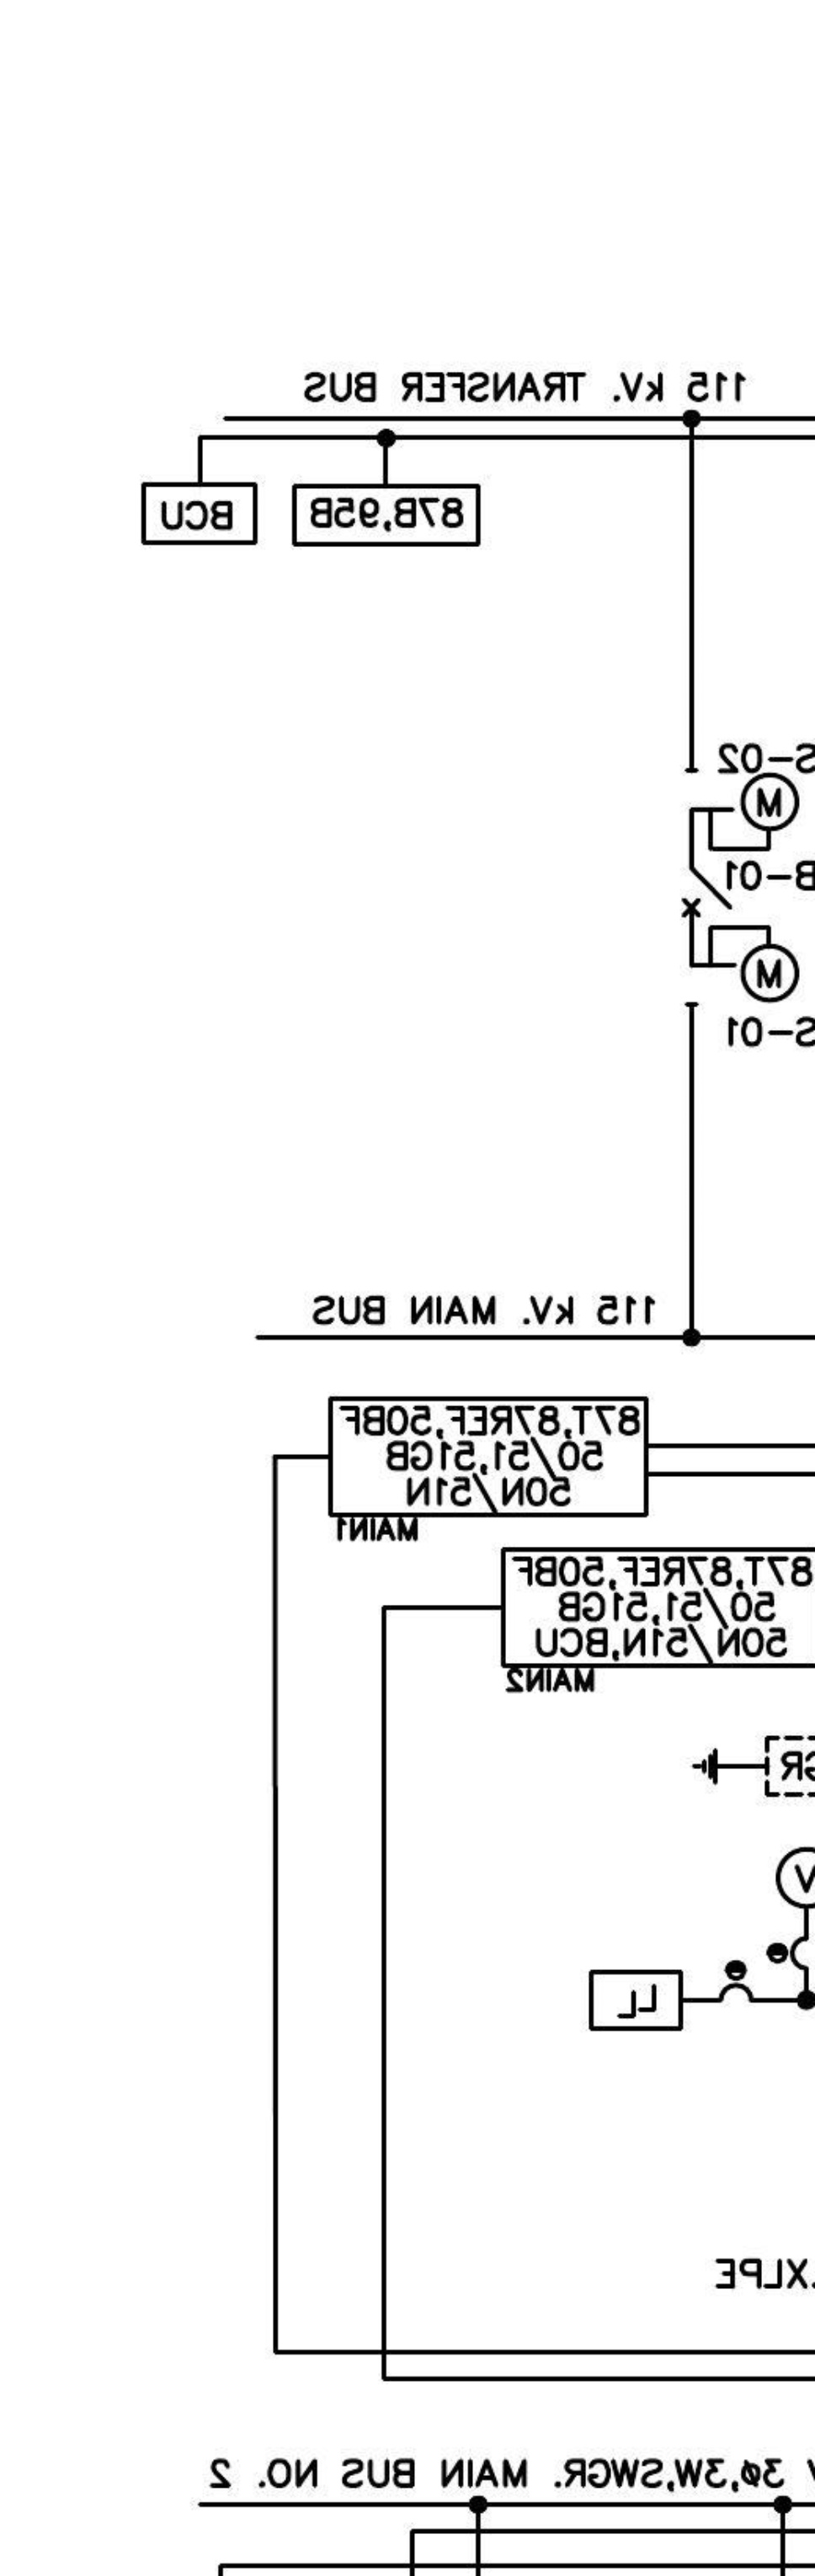115_1way_ds_w_motor: (684, 767, 800, 853), (684, 925, 800, 1009)
115_breaker: (680, 866, 733, 918)
BCU: (140, 481, 258, 545)
LL: (588, 1968, 684, 2031)
